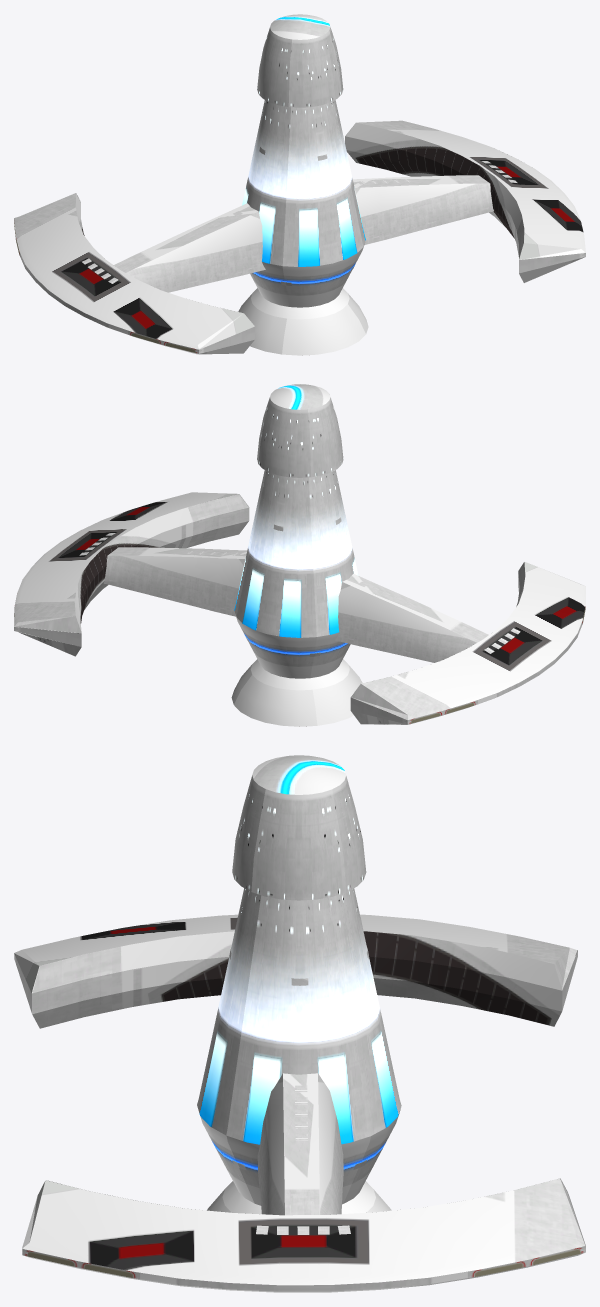
Rendered from Fed_Large_Turret.fbx.
The picture shows the model from 3 angles, top to bottom: view 1: azimuth 30°, elevation 25°; view 2: azimuth 150°, elevation 25°; view 3: azimuth 270°, elevation 25°; orthographic projection. The views are drawn at different scales.
Visible parts, largest first — view 1: Fed_Large_Turret; view 2: Fed_Large_Turret; view 3: Fed_Large_Turret.
Part boxes in pixels (box(x1,y1,x2,y2)): Fed_Large_Turret: box(14, 14, 585, 355); Fed_Large_Turret: box(14, 384, 585, 726); Fed_Large_Turret: box(14, 755, 585, 1292).
Size of the model in its own units: 363 by 226 by 236.
Materials: 1 (1 with a texture image).
